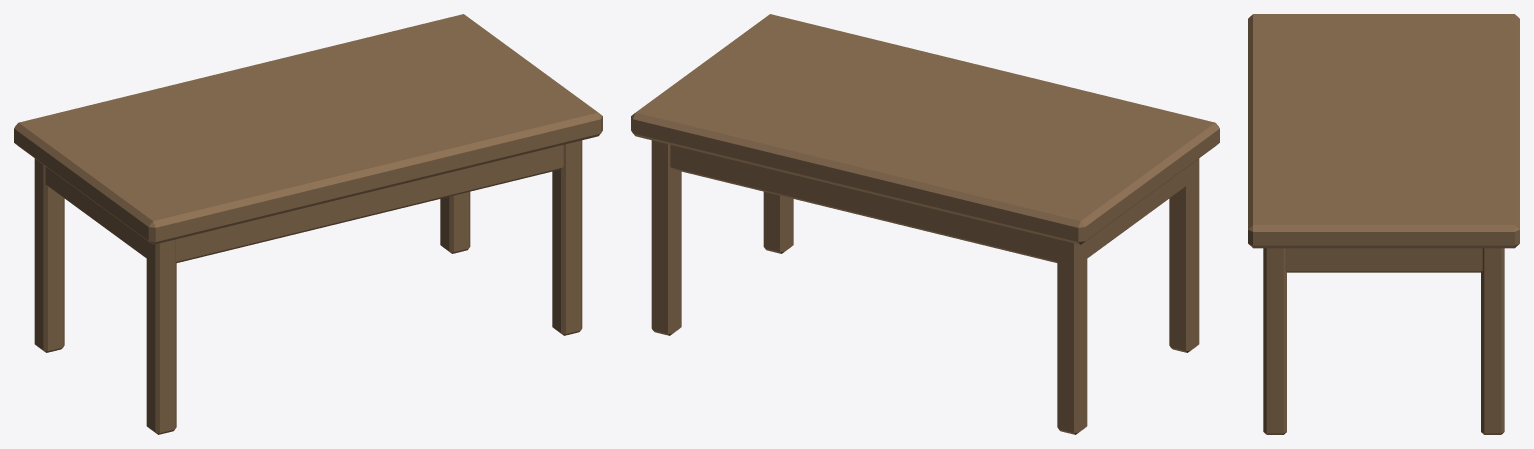
File: desk.glb
3 views of the same model, side by side, from view 1: azimuth 30°, elevation 25°; view 2: azimuth 150°, elevation 25°; view 3: azimuth 270°, elevation 25° (orthographic). The views are drawn at different scales.
Parts seen in each view (by area): view 1: desk; view 2: desk; view 3: desk.
Part boxes in pixels (x1,y1,x2,y2): desk: [14, 14, 602, 434]; desk: [631, 14, 1219, 434]; desk: [1248, 14, 1519, 434].
Size of the model in its own units: 3 by 1.4 by 1.6.
